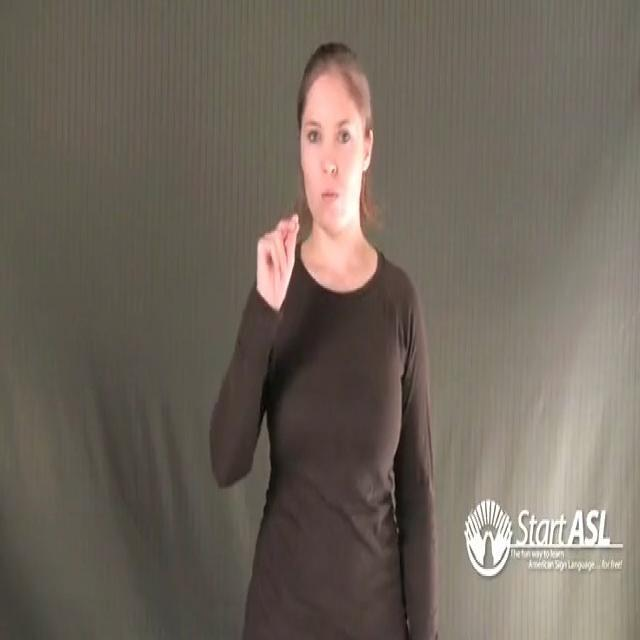no: (244, 198, 310, 330)
